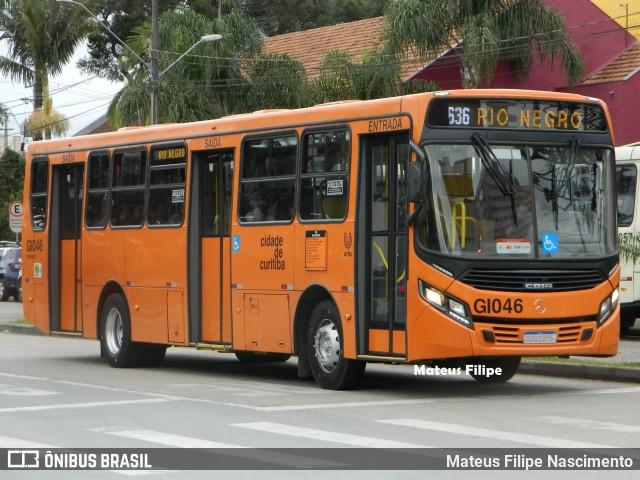RIO NEGRO: (472, 102, 587, 132)
